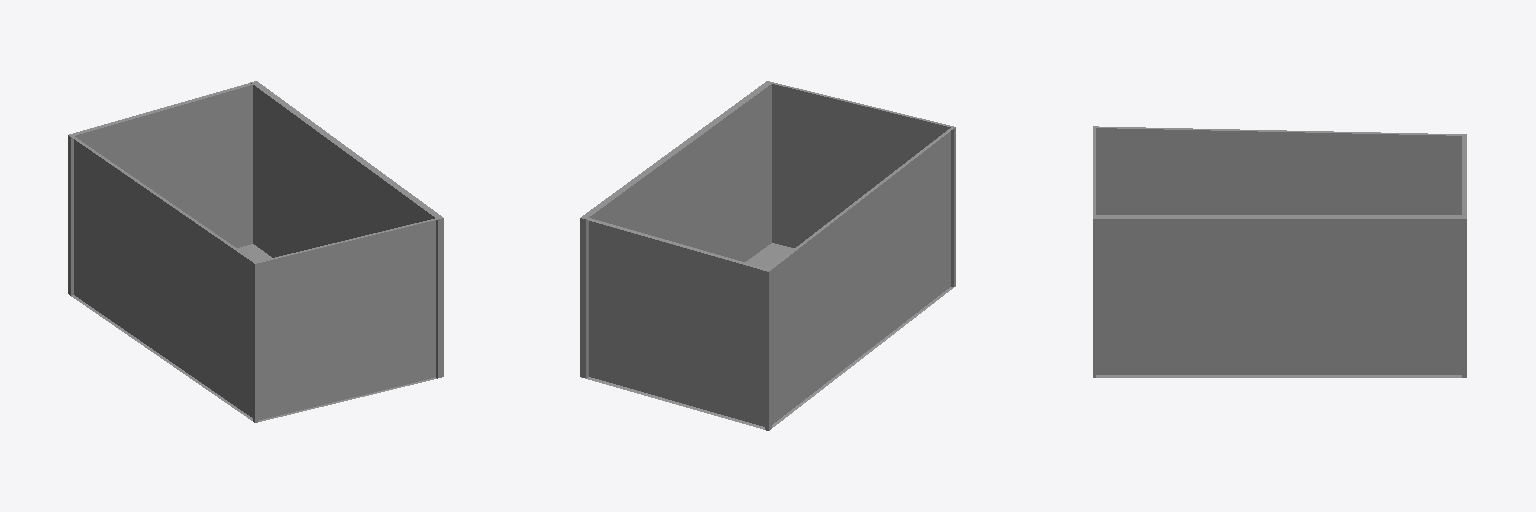
Rendered from drawer.obj.
3 renders of one model, left to right at view 1: azimuth 30°, elevation 25°; view 2: azimuth 150°, elevation 25°; view 3: azimuth 270°, elevation 25°, orthographic.
Parts seen in each view (by area): view 1: Drawer_Cube.003; view 2: Drawer_Cube.003; view 3: Drawer_Cube.003.
Part boxes in pixels (x1,y1,x2,y2): Drawer_Cube.003: (68,81,443,422); Drawer_Cube.003: (580,81,955,430); Drawer_Cube.003: (1093,126,1466,377).
Bounding box in the file's own units: 52.4 × 44.3 × 90.